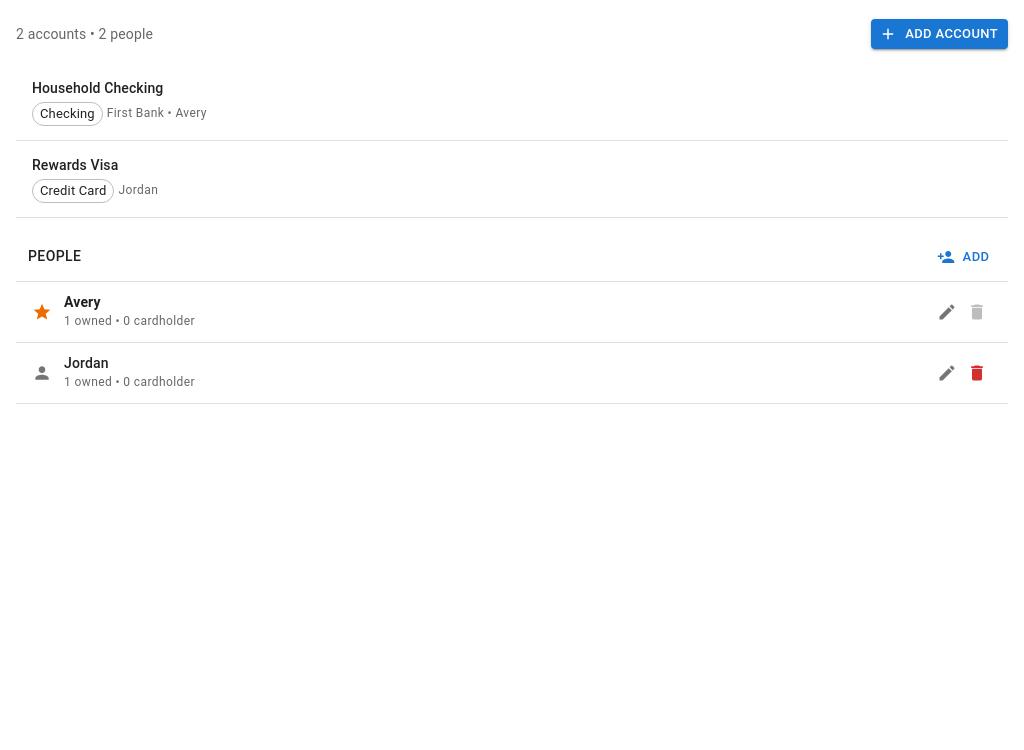
Test: AccountsPage › on phones shows the list first and opens the form full-screen with a back button
What coordinates should you click on to do the following:
click the button with test id "account-row-11"
I would click on:
 (75, 165)
Its box is [16,141,1008,218].
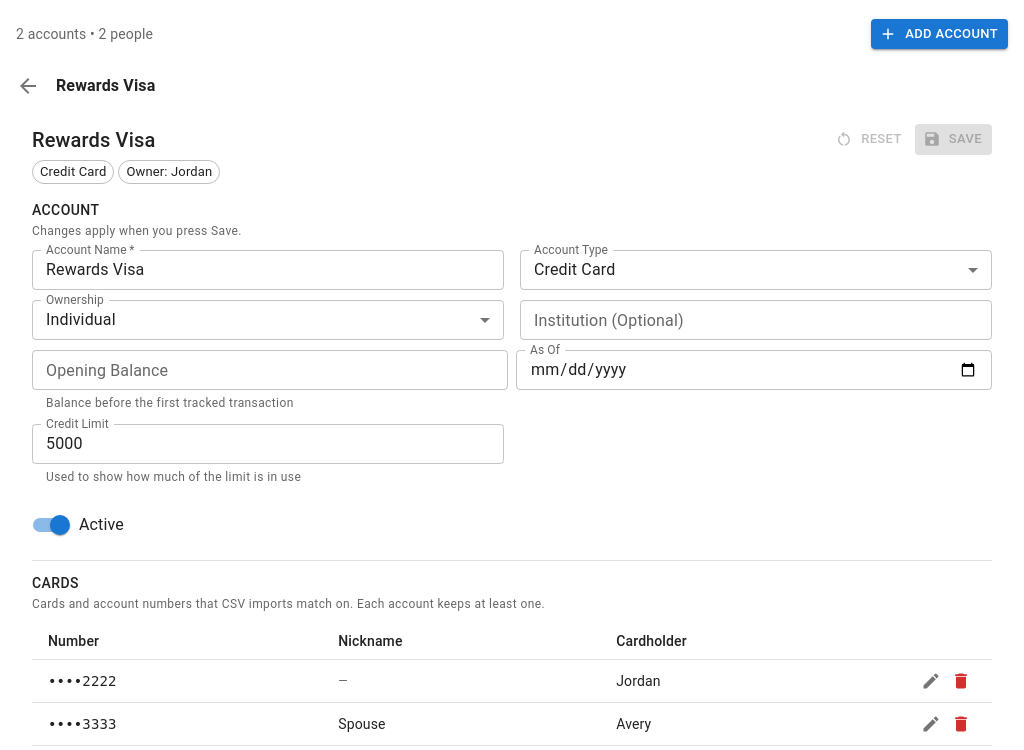
Expected: the list with test id "accounts-list" is gone
What coordinates should you click on to do the following:
click the button named "Back to list"
I would click on:
 (28, 86)
Its box is [8,66,48,106].
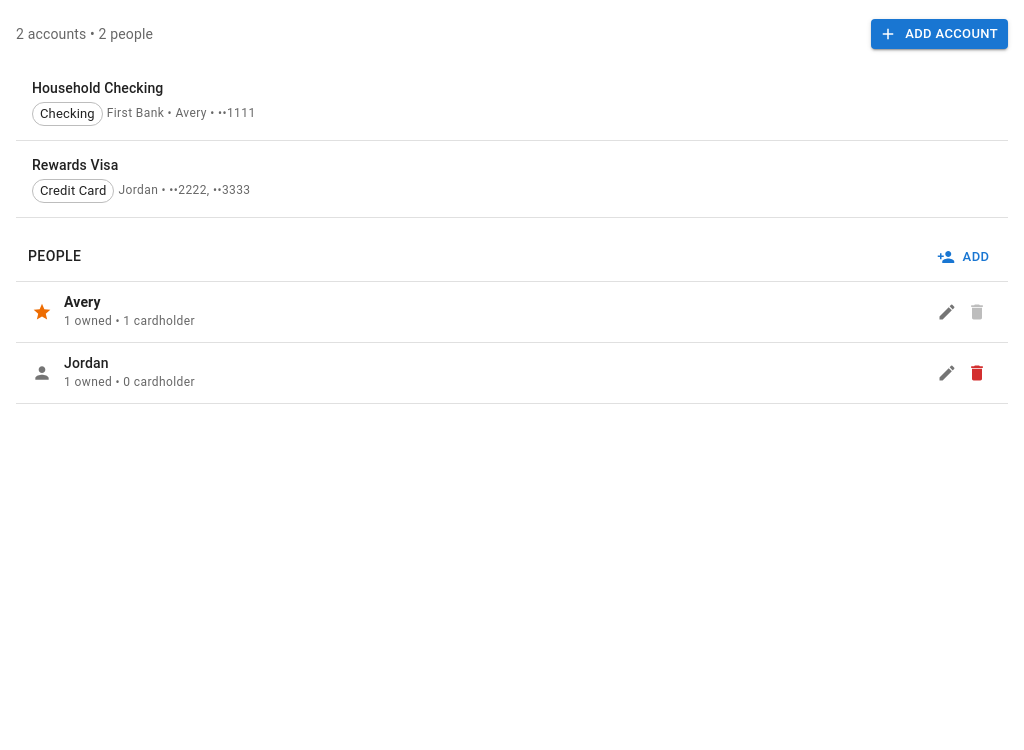
Expected: the list with test id "accounts-list" is shown, [16,64,1008,218]
